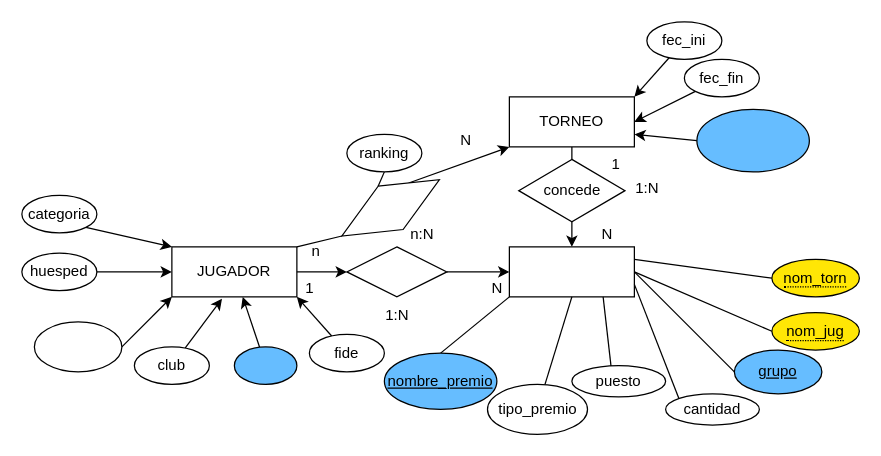
Some shapes in this 881 by 456 pixel diagram are drawn without their labels. The centre of each missing label's shape, as x and y in pixels:
"fide_id" goes at [265,365].
"gana" goes at [396,271].
"nombre_jug" goes at [77,346].
"nombre_torneo" goes at [752,140].
"participa" goes at [390,207].
"PREMIO" goes at [571,271].
